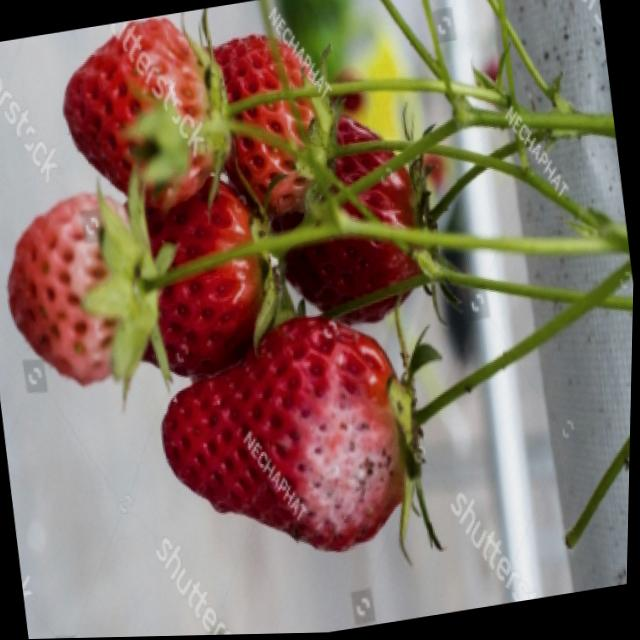Powdery Mildew Fruit: (295, 389, 398, 544)
